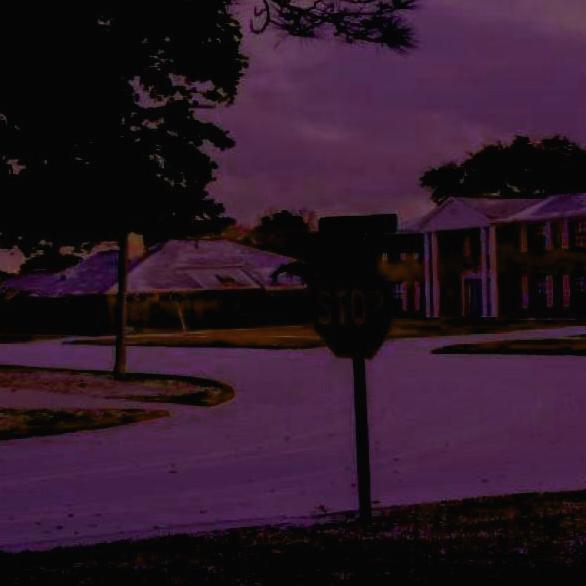stop_sign: (307, 254, 393, 361)
